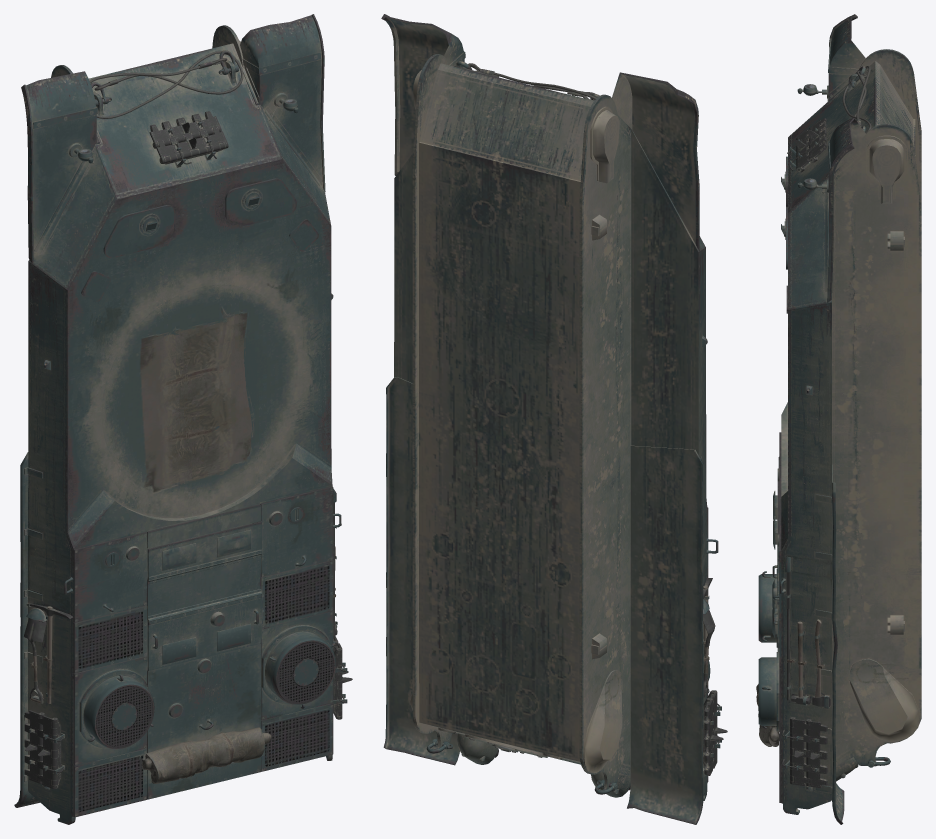
The model's file is Hull.glb.
3 renders of one model, left to right at view 1: azimuth 30°, elevation 25°; view 2: azimuth 150°, elevation 25°; view 3: azimuth 270°, elevation 25°, orthographic. The views are drawn at different scales.
Parts seen in each view (by area): view 1: set_0_group_0; view 2: set_0_group_0; view 3: set_0_group_0.
Part boxes in pixels (x1,y1,x2,y2): set_0_group_0: [14, 14, 352, 824]; set_0_group_0: [381, 14, 727, 824]; set_0_group_0: [756, 14, 921, 824].
Size of the model in its own units: 3.57 by 7.6 by 1.68.
Materials: 1 (1 with a texture image).
